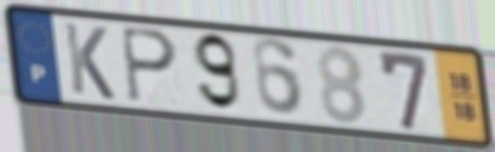6: (251, 34, 306, 124)
7: (374, 47, 431, 133)
8: (316, 43, 369, 128)
9: (190, 31, 245, 116)
K: (60, 19, 118, 103)
P: (117, 24, 181, 106)
